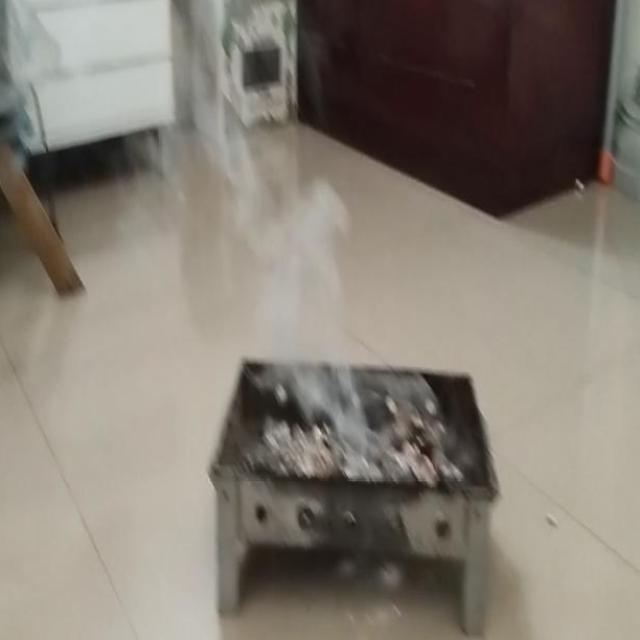fire: (251, 166, 353, 422)
